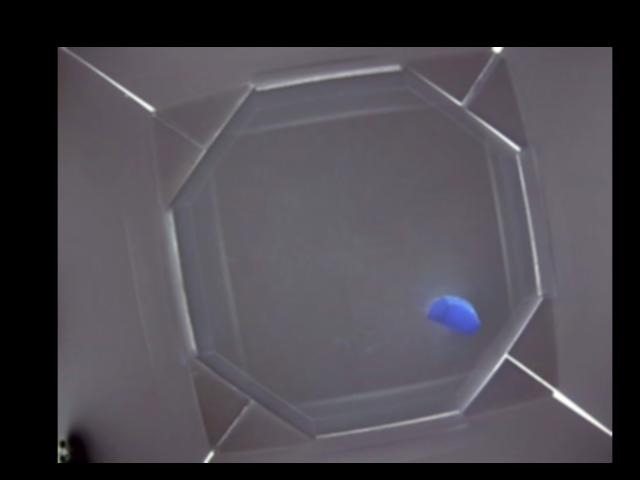Potato: (426, 294, 480, 333)
